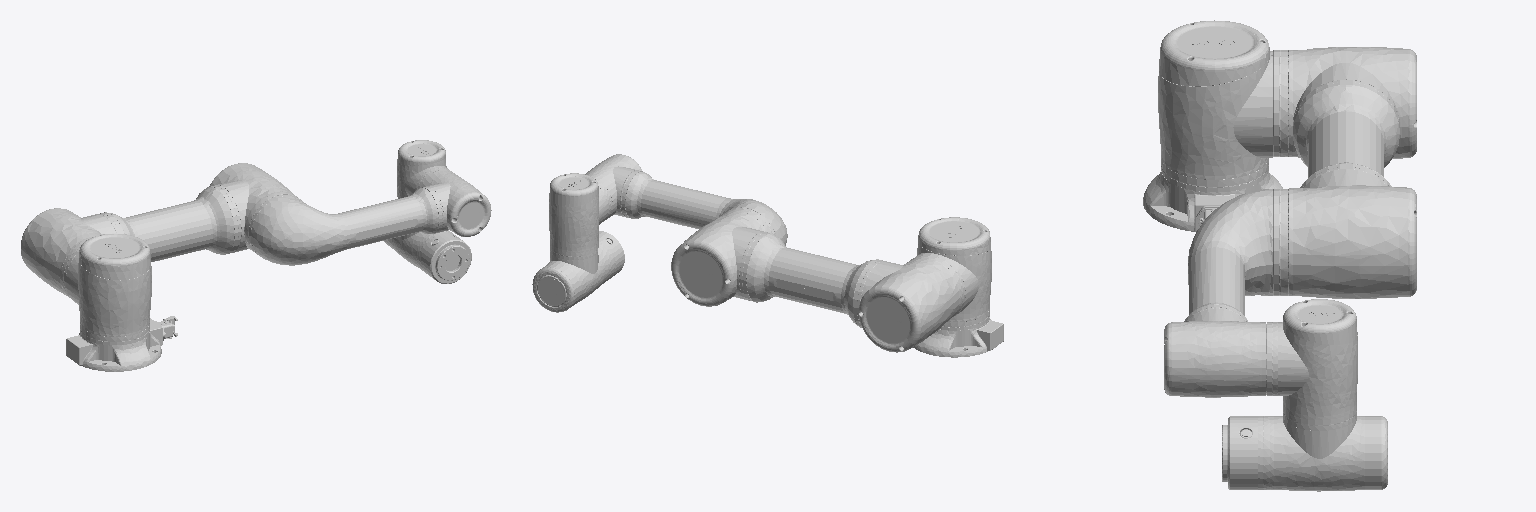
The robot description file, URDF, robot "jaka_zu7_robot":
<?xml version="1.0" encoding="utf-8" ?>
<robot name="jaka_zu7_robot"> 

    <link name="jaka_zu7_base_link">
      <inertial>
        <origin xyz="0.00096371 8.8222E-08 0.019555" rpy="0 0 0" />
        <mass value="4.0392" />
        <inertia ixx="0.0048763" ixy="-1.8056E-07" ixz="2.5196E-05" iyy="0.0068003"
          iyz="-1.7678E-09" izz="0.010618" />
      </inertial>

      <visual>
        <origin xyz="0 0 0" rpy="0 0 0" />
        <geometry>
          <mesh filename="../meshes/zu7/visual/base_link.dae" />
        </geometry>
        <material name="">
          <color rgba="0.84706 0.84706 0.84706 1" />
        </material>
      </visual>
      <collision>
        <origin xyz="0 0 0" rpy="0 0 0" />
        <geometry>
          <mesh filename="../meshes/zu7/collision/link_0.STL" />
        </geometry>
      </collision>
    </link>

    <link name="jaka_zu7_link_1">
      <inertial>
        <origin xyz="-2.5186E-07 0.0033226 -0.001509" rpy="0 0 0" />
        <mass value="15.135" />
        <inertia ixx="0.044302" ixy="1.5349E-07" ixz="-6.1966E-07" iyy="0.043091"
          iyz="1.4326E-05" izz="0.030523" />
      </inertial>

      <visual>
        <origin xyz="0 0 0" rpy="0 0 0" />
        <geometry>
          <mesh filename="../meshes/zu7/visual/link_1.dae" />
        </geometry>
        <material name="">
          <color rgba="0.84706 0.84706 0.84706 1" />
        </material>
      </visual>
      <collision>
        <origin xyz="0 0 0" rpy="0 0 0" />
        <geometry>
          <mesh filename="../meshes/zu7/collision/link_1.STL" />
        </geometry>
      </collision>
    </link>

    <link name="jaka_zu7_link_2">
      <inertial>
        <origin xyz="0.18 8.8001E-09 -0.14308" rpy="0 0 0" />
        <mass value="42.872" />
        <inertia ixx="0.1014" ixy="-1.1106E-06" ixz="-1.3363E-07" iyy="1.1119"
          iyz="2.9045E-08" izz="1.0844" />
      </inertial>

      <visual>
        <origin xyz="0 0 0" rpy="0 0 0" />
        <geometry>
          <mesh filename="../meshes/zu7/visual/link_2.dae" />
        </geometry>
        <material name="">
          <color rgba="0.84706 0.84706 0.84706 1" />
        </material>
      </visual>
      <collision>
        <origin xyz="0 0 0" rpy="0 0 0" />
        <geometry>
          <mesh filename="../meshes/zu7/collision/link_2.STL" />
        </geometry>
      </collision>
    </link>

    <link name="jaka_zu7_link_3">
      <inertial>
        <origin xyz="0.15515 5.4643E-08 -0.012576" rpy="0 0 0" />
        <mass value="16.562" />
        <inertia ixx="0.020968" ixy="-3.9001E-06" ixz="-0.018394" iyy="0.28365"
          iyz="-1.2859E-07" izz="0.27848" />
      </inertial>

      <visual>
        <origin xyz="0 0 0" rpy="0 0 0" />
        <geometry>
          <mesh filename="../meshes/zu7/visual/link_3.dae" />
        </geometry>
        <material name="">
          <color rgba="0.84706 0.84706 0.84706 1" />
        </material>
      </visual>
      <collision>
        <origin xyz="0 0 0" rpy="0 0 0" />
        <geometry>
          <mesh filename="../meshes/zu7/collision/link_3.STL" />
        </geometry>
      </collision>
    </link>

    <link name="jaka_zu7_link_4">
      <inertial>
        <origin xyz="-2.1345E-06 -0.0058004 0.0026717" rpy="0 0 0" />
        <mass value="5.5525" />
        <inertia ixx="0.0092564" ixy="1.1341E-07" ixz="-1.2578E-08" iyy="0.0052251"
          iyz="-8.3499E-05" izz="0.0089683" />
      </inertial>

      <visual>
        <origin xyz="0 0 0" rpy="0 0 0" />
        <geometry>
          <mesh filename="../meshes/zu7/visual/link_4.dae" />
        </geometry>
        <material name="">
          <color rgba="0.84706 0.84706 0.84706 1" />
        </material>
      </visual>
      <collision>
        <origin xyz="0 0 0" rpy="0 0 0" />
        <geometry>
          <mesh filename="../meshes/zu7/collision/link_4.STL" />
        </geometry>
      </collision>
    </link>

    <link name="jaka_zu7_link_5">
      <inertial>
        <origin xyz="-2.0304E-06 -0.0028889 -0.0023424" rpy="0 0 0" />
        <mass value="6.3339" />
        <inertia ixx="0.012993" ixy="-1.0764E-07" ixz="5.8559E-09" iyy="0.0058454"
          iyz="4.5426E-05" izz="0.0127" />
      </inertial>

      <visual>
        <origin xyz="0 0 0" rpy="0 0 0" />
        <geometry>
          <mesh filename="../meshes/zu7/visual/link_5.dae" />
        </geometry>
        <material name="">
          <color rgba="0.84706 0.84706 0.84706 1" />
        </material>
      </visual>
      <collision>
        <origin xyz="0 0 0" rpy="0 0 0" />
        <geometry>
          <mesh filename="../meshes/zu7/collision/link_5.STL" />
        </geometry>
      </collision>
    </link>

    <link name="jaka_zu7_link_6">
      <inertial>
        <origin xyz="2.7652E-05 -1.3485E-05 -0.021245" rpy="0 0 0" />
        <mass value="1.4169" />
        <inertia ixx="0.00071853" ixy="-6.9778E-07" ixz="-6.378E-07" iyy="0.00072375"
          iyz="8.3072E-07" izz="0.0011337" />
      </inertial>

      <visual>
        <origin xyz="0 0 0" rpy="0 0 0" />
        <geometry>
          <mesh filename="../meshes/zu7/visual/link_6.dae" />
        </geometry>
        <material name="">
          <color rgba="0.84706 0.84706 0.84706 1" />
        </material>
      </visual>
      <collision>
        <origin xyz="0 0 0" rpy="0 0 0" />
        <geometry>
          <mesh filename="../meshes/zu7/collision/link_6.STL" />
        </geometry>
      </collision>
    </link>

    <link name="jaka_zu7_tool0" />

    <!-- <joint name="jaka_zu7_base_joint" type="fixed">
      <xacro:insert_block name="origin" />
      <parent link="${parent}" />
      <child link="jaka_zu7_base_link" />
    </joint> -->

    <joint name="jaka_zu7_joint_1" type="revolute">
      <origin xyz="0 0 0.12015" rpy="0 0 0" />
      <parent link="jaka_zu7_base_link" />
      <child link="jaka_zu7_link_1" />
      <axis xyz="0 0 1" />
      <limit lower="-6.28" upper="6.28" effort="2000" velocity="1.57" />
    </joint>

    <joint name="jaka_zu7_joint_2" type="revolute">
      <origin xyz="0 0 0" rpy="1.5708 0 0" />
      <parent link="jaka_zu7_link_1" />
      <child link="jaka_zu7_link_2" />
      <axis xyz="0 0 1" />
      <limit lower="-1.48" upper="4.62" effort="1500" velocity="1.57" />
    </joint>

    <joint name="jaka_zu7_joint_3" type="revolute">
      <origin xyz="0.36 0 0" rpy="0 0 0" />
      <parent link="jaka_zu7_link_2" />
      <child link="jaka_zu7_link_3" />
      <axis xyz="0 0 1" />
      <limit lower="-3.05" upper="3.05" effort="1500" velocity="1.57" />
    </joint>

    <joint name="jaka_zu7_joint_4" type="revolute">
      <origin xyz="0.30353 0 -0.11501" rpy="0 0 0" />
      <parent link="jaka_zu7_link_3" />
      <child link="jaka_zu7_link_4" />
      <axis xyz="0 0 1" />
      <limit lower="-1.48" upper="4.62" effort="1000" velocity="1.57" />
    </joint>

    <joint name="jaka_zu7_joint_5" type="revolute">
      <origin xyz="0 -0.1135 0" rpy="1.5708 0 0" />
      <parent link="jaka_zu7_link_4" />
      <child link="jaka_zu7_link_5" />
      <axis xyz="0 0 1" />
      <limit lower="-6.28" upper="6.28" effort="1000" velocity="1.57" />
    </joint>

    <joint name="jaka_zu7_joint_6" type="revolute">
      <origin xyz="0 0.107 0" rpy="-1.5708 0 0" />
      <parent link="jaka_zu7_link_5" />
      <child link="jaka_zu7_link_6" />
      <axis xyz="0 0 1" />
      <limit lower="-6.28" upper="6.28" effort="1000" velocity="1.57" />
    </joint>

    <joint name="jaka_zu7_joint_6-tool0" type="fixed">
      <parent link="jaka_zu7_link_6" />
      <child link="jaka_zu7_tool0" />
      <origin xyz="0 0 0" rpy="0 0 0" />
    </joint>

</robot>

--- What the picture shows (computed from the rendered views, not written in the file) ---
Views: 3 orthographic renders of the robot side by side, from view 1: azimuth 30°, elevation 25°; view 2: azimuth 150°, elevation 25°; view 3: azimuth 270°, elevation 25°.
Robot: jaka_zu7_robot — 8 links, 7 joints (6 revolute, 1 fixed); root link jaka_zu7_base_link; default pose: all joints at 0.
Visible links, largest first — view 1: jaka_zu7_link_2, jaka_zu7_link_3, jaka_zu7_link_1, jaka_zu7_base_link, jaka_zu7_link_6, jaka_zu7_link_4, jaka_zu7_link_5; view 2: jaka_zu7_link_2, jaka_zu7_link_3, jaka_zu7_link_1, jaka_zu7_link_4, jaka_zu7_link_5, jaka_zu7_base_link; view 3: jaka_zu7_link_2, jaka_zu7_link_1, jaka_zu7_link_3, jaka_zu7_link_4, jaka_zu7_link_5, jaka_zu7_base_link, jaka_zu7_link_6.
Link boxes in pixels (<box>): jaka_zu7_link_2: <box>21,163,300,297</box>; jaka_zu7_link_3: <box>251,167,491,265</box>; jaka_zu7_link_1: <box>66,234,151,345</box>; jaka_zu7_base_link: <box>66,316,177,371</box>; jaka_zu7_link_6: <box>421,233,471,283</box>; jaka_zu7_link_4: <box>397,140,447,198</box>; jaka_zu7_link_5: <box>384,230,452,273</box>; jaka_zu7_link_2: <box>671,208,965,352</box>; jaka_zu7_link_3: <box>585,154,787,245</box>; jaka_zu7_link_1: <box>917,217,991,330</box>; jaka_zu7_link_4: <box>549,173,608,259</box>; jaka_zu7_link_5: <box>532,240,615,312</box>; jaka_zu7_base_link: <box>913,317,1003,357</box>; jaka_zu7_link_2: <box>1273,47,1416,298</box>; jaka_zu7_link_1: <box>1158,20,1272,192</box>; jaka_zu7_link_3: <box>1164,189,1277,397</box>; jaka_zu7_link_4: <box>1278,299,1357,430</box>; jaka_zu7_link_5: <box>1258,416,1387,491</box>; jaka_zu7_base_link: <box>1143,171,1282,231</box>; jaka_zu7_link_6: <box>1222,416,1257,489</box>.
Bounding box of the posed robot: 0.7877 × 0.3006 × 0.2318 m (x, y, z).
Meshes: 7 distinct files referenced, 7 mesh visuals loaded (7 Collada DAE).
